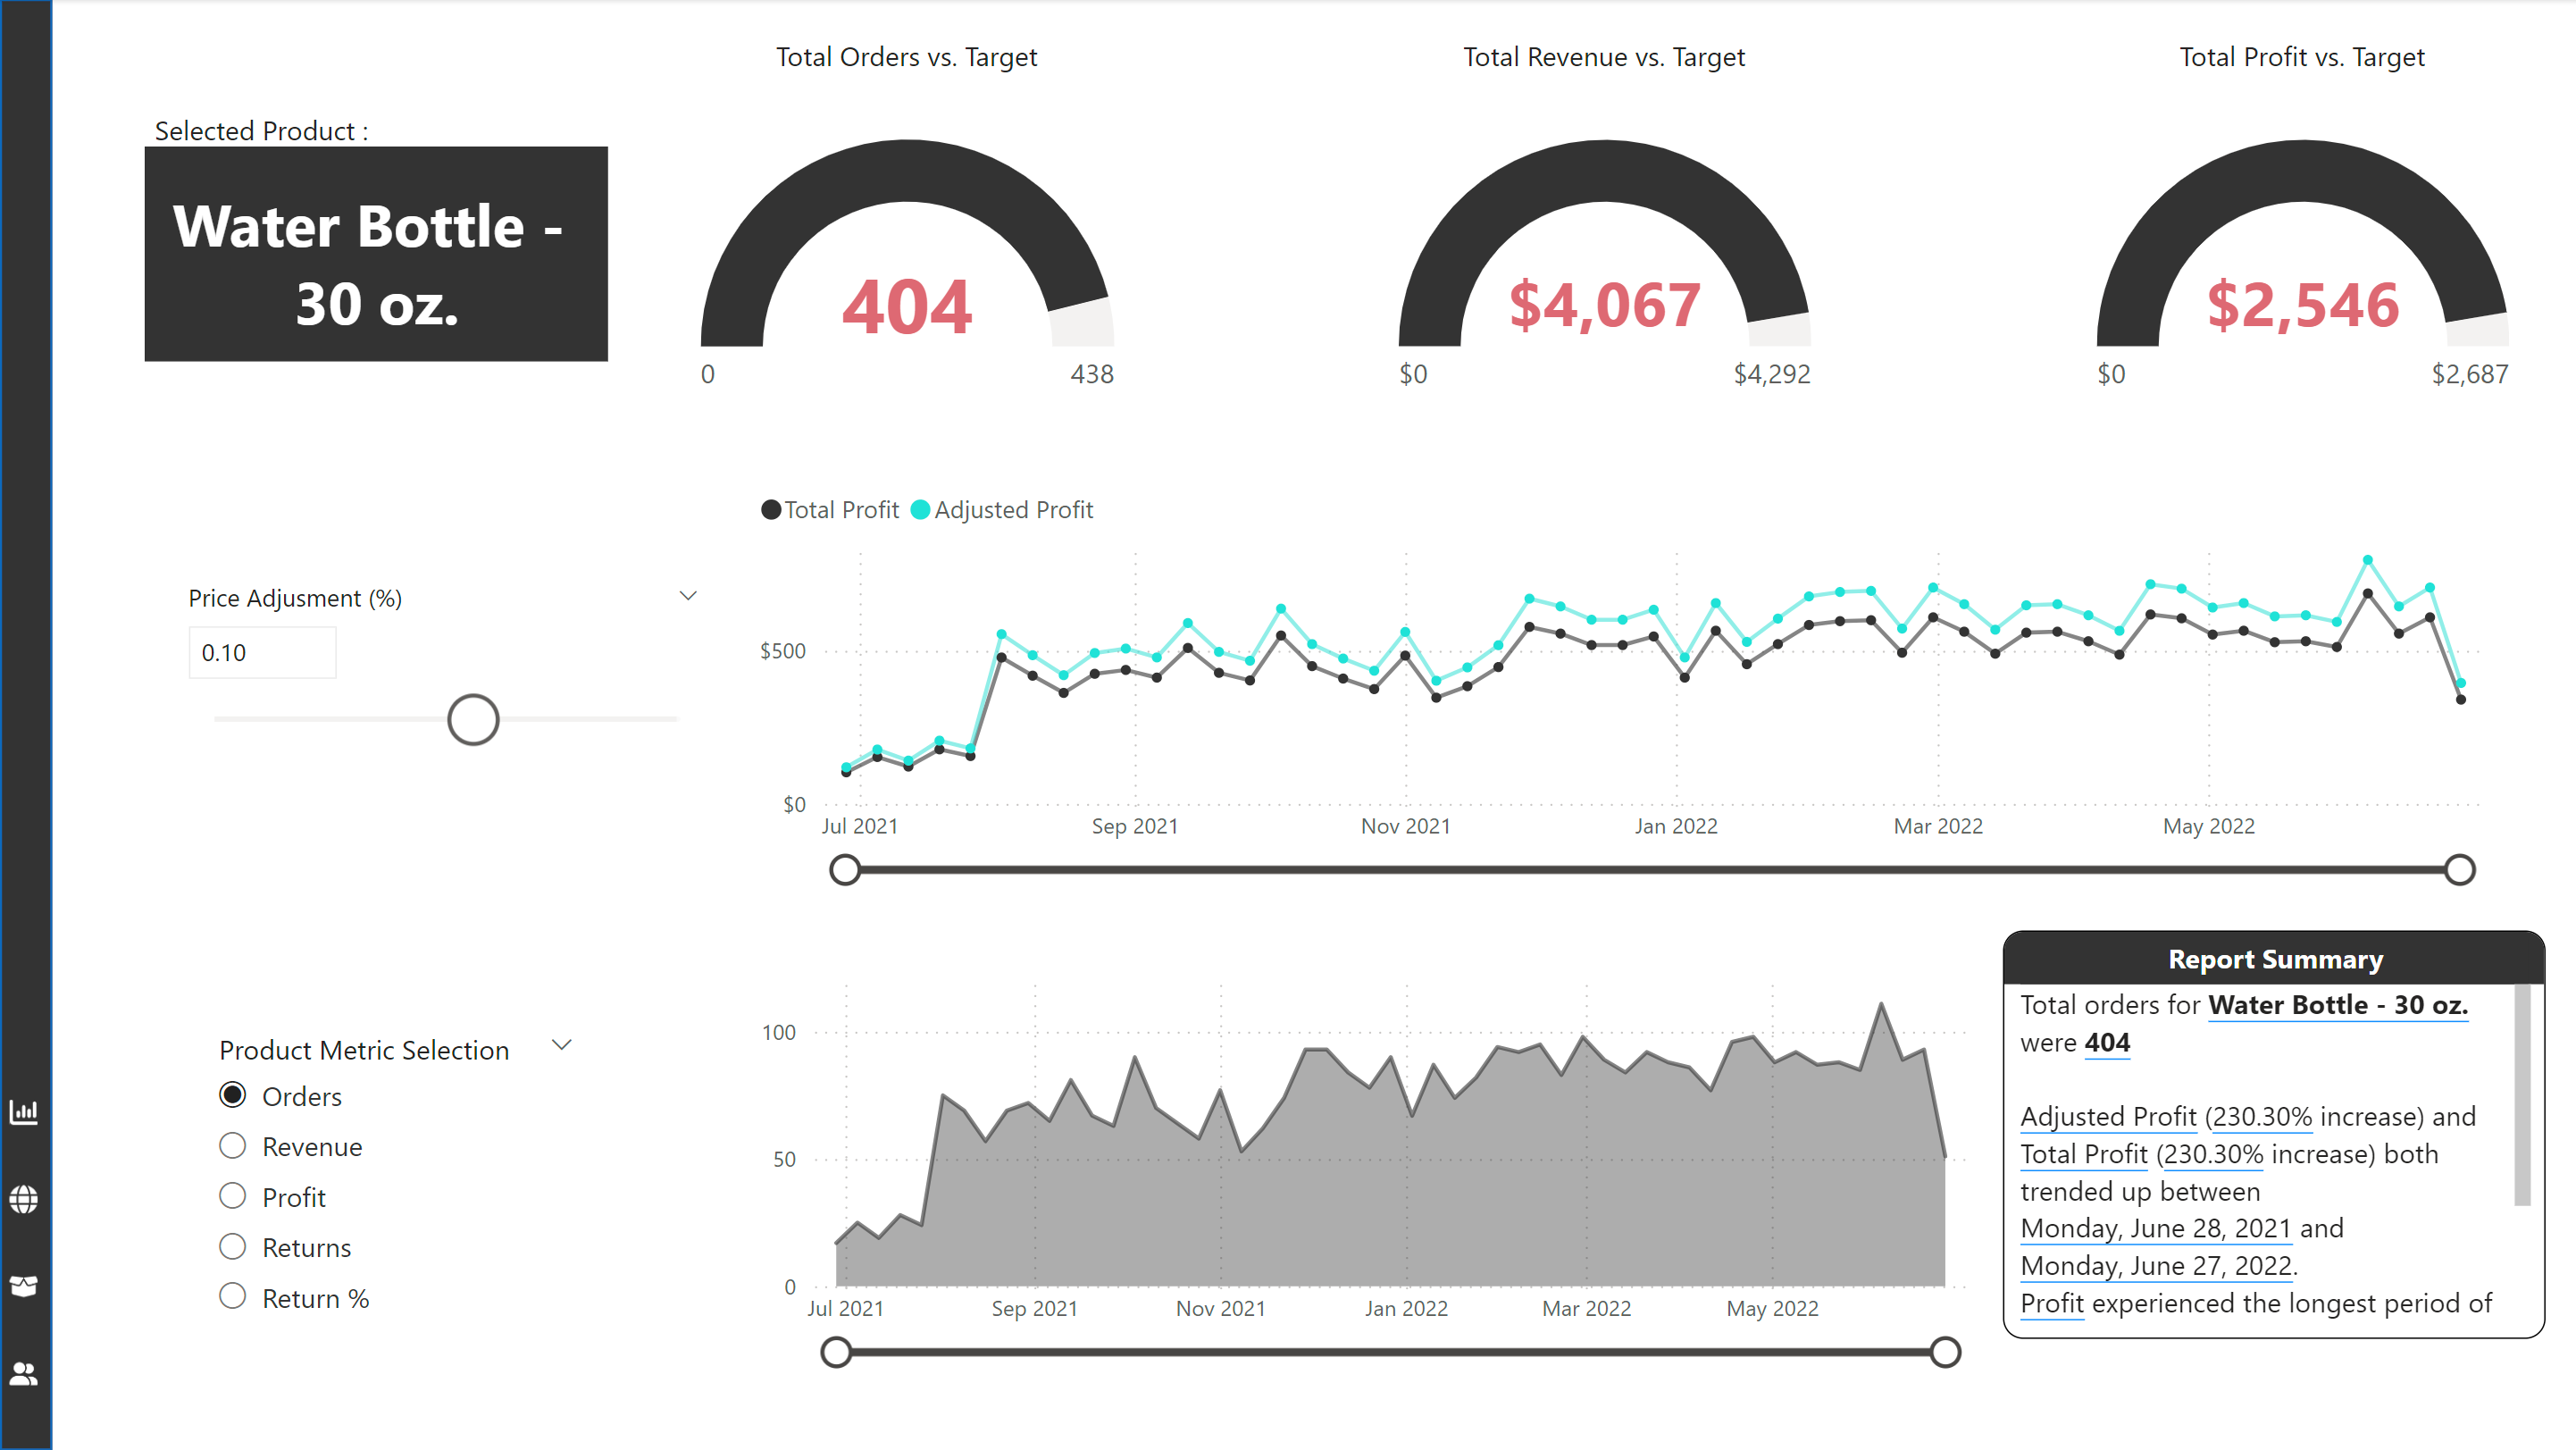

What the dashboard file says about the page in this screenshot:
{"tool":"powerbi","page":{"name":"Product Detail","canvas":[1280,720],"ordinal":2},"visuals":[{"type":"shape","box":[0,0,25.9,720.3],"z":0},{"type":"actionButton","box":[1.2,584.9,26.6,22.3],"z":0,"group":"g1"},{"type":"actionButton","box":[0.9,541.6,26,22.3],"z":1000,"group":"g1"},{"type":"gauge","title":"Total Orders vs. Target","fields":{"Y":["Measure Table.Total Orders"],"MaxValue":["Measure Table.Order Target"]},"box":[342.4,18.8,215.4,214.1],"z":1000},{"type":"gauge","title":"Total Revenue vs. Target","fields":{"Y":["Measure Table.Total Revenue"],"MaxValue":["Measure Table.Revenue Target"]},"box":[689.2,18.8,214.9,214.2],"z":2000},{"type":"actionButton","box":[0.9,671.4,26,22.3],"z":2000,"group":"g1"},{"type":"gauge","title":"Total Profit vs. Target","fields":{"Y":["Measure Table.Total Profit"],"MaxValue":["Measure Table.Profit Target"]},"box":[1035.4,18.8,214.9,214.2],"z":3000},{"type":"actionButton","box":[0.9,628.1,26,22.3],"z":3000,"group":"g1"},{"type":"areaChart","title":"Profit Trending","fields":{"Y":["Measure Table.Total Profit","Measure Table.Adjusted Profit"],"Category":["Calendar Lookup.Date Hierarchy.Start of Year","Calendar Lookup.Date Hierarchy.Start of Month","Calendar Lookup.Date Hierarchy.Start of Week","Calendar Lookup.Date Hierarchy.Date"]},"box":[371.7,233.3,878.5,209.6],"z":4000},{"type":"areaChart","title":"Returns Trending","fields":{"Y":["Measure Table.Total Orders"],"Category":["Calendar Lookup.Date Hierarchy.Start of Year","Calendar Lookup.Date Hierarchy.Start of Month","Calendar Lookup.Date Hierarchy.Start of Week","Calendar Lookup.Date Hierarchy.Date"]},"box":[371.5,472.9,622.5,209.6],"z":5000},{"type":"card","fields":{"Values":["Min(Product Lookup.ProductName)"]},"box":[71.6,73,229.9,106.4],"z":6000},{"type":"textbox","box":[71.6,49.8,124.8,29.3],"z":7000},{"type":"group","id":"g1","title":"Navigation Buttons","box":[0.9,541.6,26.9,152.1],"z":8000},{"type":"slicer","fields":{"Values":["Price Adjusment (%).Price Adjusment (%)"]},"box":[80.5,283.3,278.7,109.7],"z":9000},{"type":"slicer","fields":{"Values":["Product Metric Selection 2.Product Metric Selection"]},"box":[95.8,506.3,200.9,155.2],"z":10000},{"type":"textbox","title":"Report Summary","box":[994.1,462.4,269.5,202.8],"z":11000}]}

Visuals, with their boxes on the page's 1280x720 design canvas (x1, y1, x2, y2). These are canvas units, not pixel positions in the 2576x1450 screenshot, which may show the page scaled, cropped or inside an application window:
shape: 0:0:26:720
actionButton: 1:585:28:607
actionButton: 1:542:27:564
"Total Orders vs. Target" gauge: 342:19:558:233
"Total Revenue vs. Target" gauge: 689:19:904:233
actionButton: 1:671:27:694
"Total Profit vs. Target" gauge: 1035:19:1250:233
actionButton: 1:628:27:650
"Profit Trending" areaChart: 372:233:1250:443
"Returns Trending" areaChart: 372:473:994:682
card - Min(Product Lookup.ProductName): 72:73:302:179
textbox: 72:50:196:79
"Navigation Buttons" group: 1:542:28:694
slicer - Price Adjusment (%).Price Adjusment (%): 80:283:359:393
slicer - Product Metric Selection 2.Product Metric Selection: 96:506:297:662
"Report Summary" textbox: 994:462:1264:665
